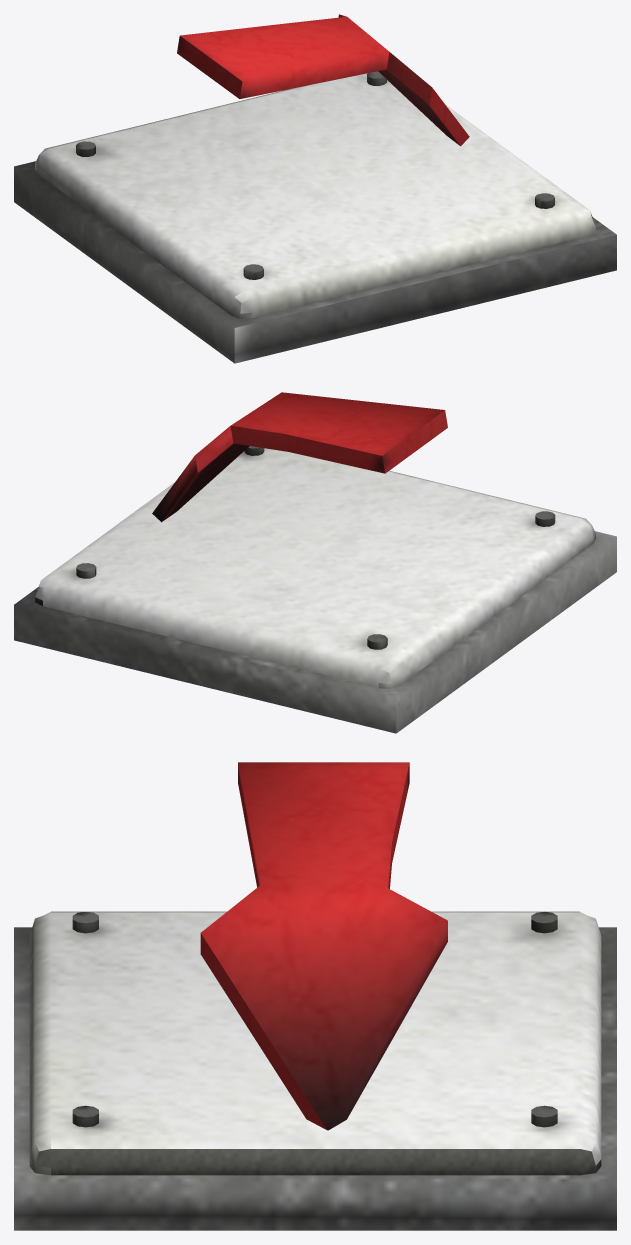
File: Sortida.obj
3 views of the same model, one above another, from view 1: azimuth 30°, elevation 25°; view 2: azimuth 150°, elevation 25°; view 3: azimuth 270°, elevation 25° (orthographic). The views are drawn at different scales.
Parts seen in each view (by area): view 1: ColorChang, group00000, group; view 2: ColorChang, group00000, group; view 3: ColorChang, group, group00000.
Part boxes in pixels (x1,y1,x2,y2): ColorChang: (35,73,595,318); group00000: (14,71,616,363); group: (177,14,469,146); ColorChang: (35,448,595,688); group00000: (14,446,616,733); group: (152,392,447,522); ColorChang: (29,911,601,1175); group: (200,762,447,1130); group00000: (14,911,616,1230).
Bounding box in the file's own units: 1.06 × 0.5281 × 1.06.
1 material, 1 textured.
